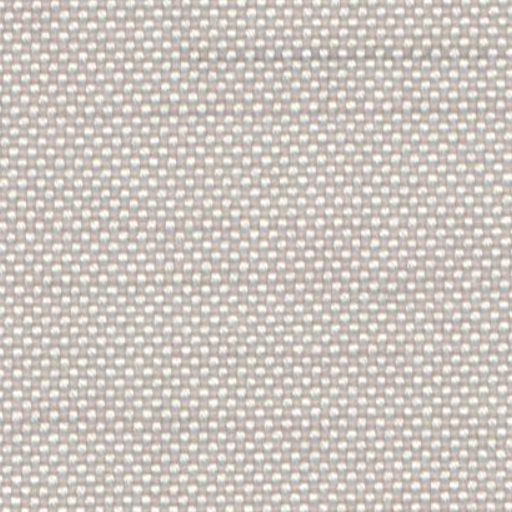WuZi: (204, 42, 457, 67)
